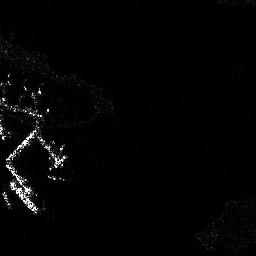ship: (10, 180, 38, 214)
